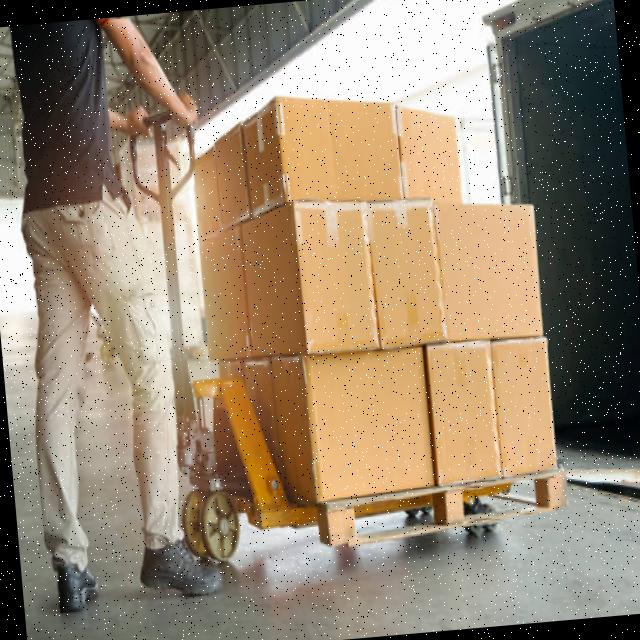Wooden-Pallets: (317, 470, 569, 548)
